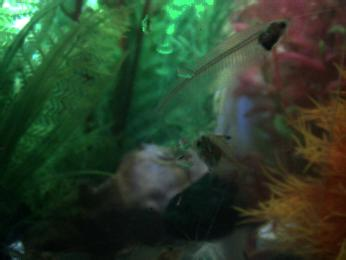X-ray fish: (191, 133, 256, 184)
glassfish: (143, 17, 293, 121)
siberian prawn: (115, 232, 207, 260)
